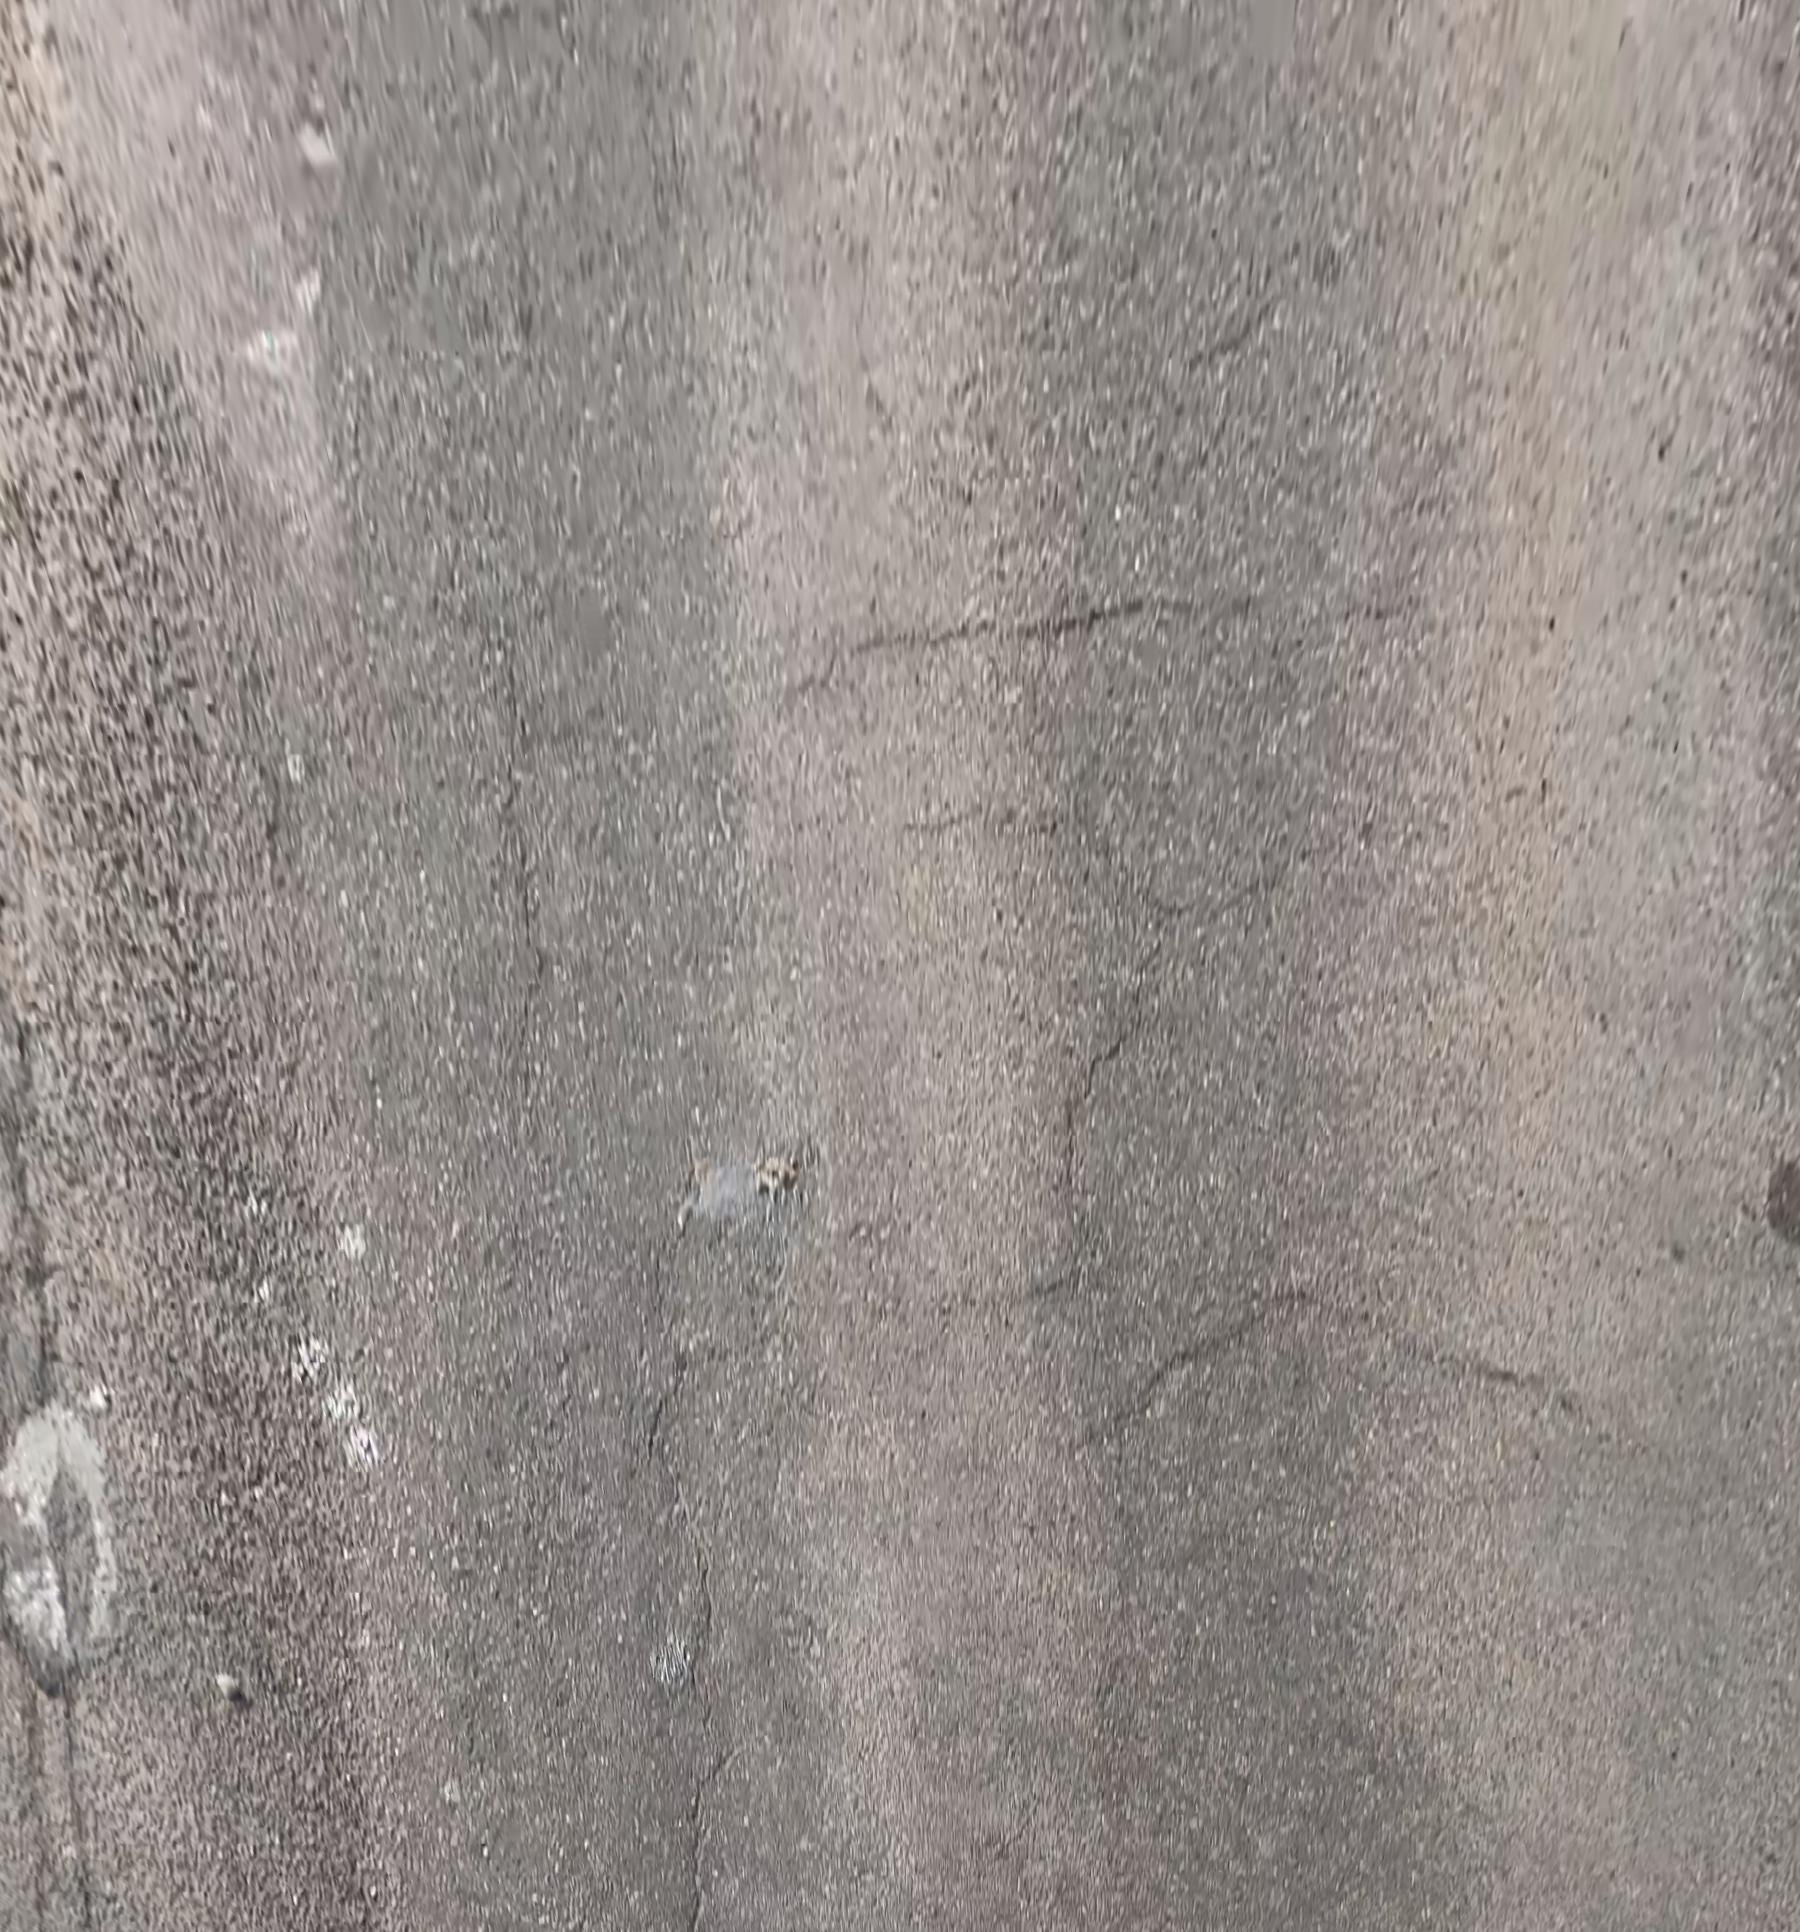pothole: (755, 1152, 802, 1198)
pothole_patch_good: (0, 1404, 117, 1695)
